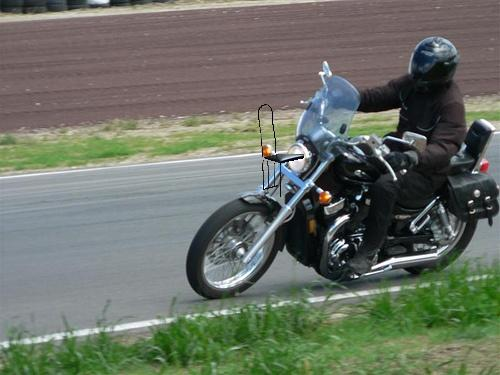tampered: (259, 105, 304, 197)
